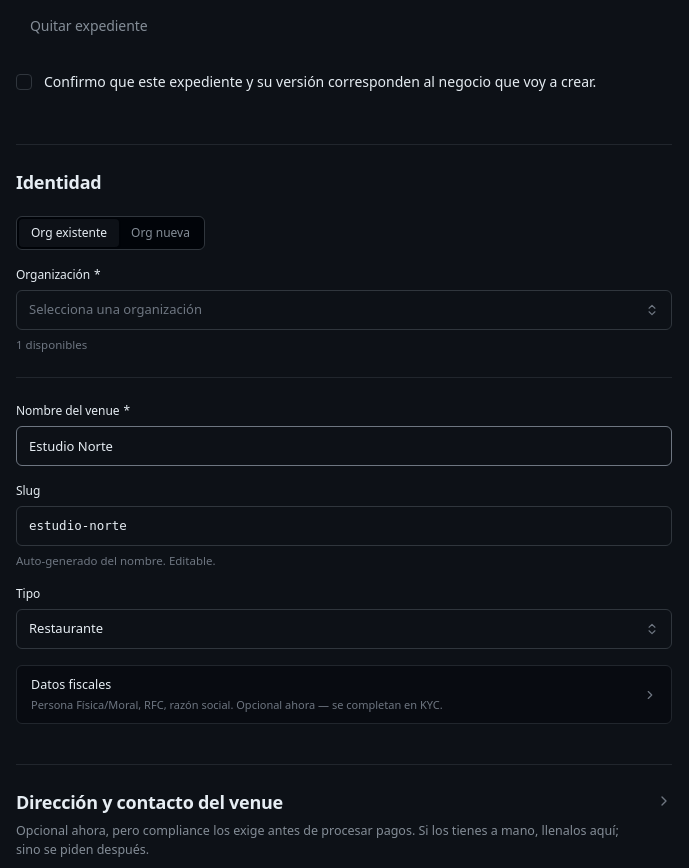
Scenario: NewVenuePage con expediente › quitar selección conserva cambios escritos a mano
(page scrolled)
Step 1. Replace the text in the field labelled "Nombre del venue*" with "Nombre manual" → [344, 446], box [16, 426, 672, 466]
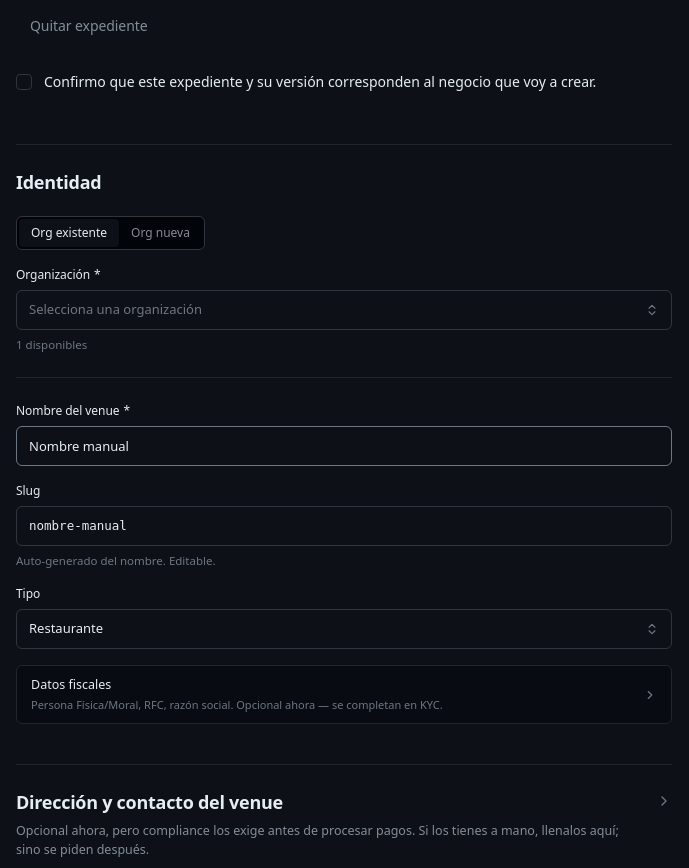
Step 2. Click the button "Quitar expediente" → [89, 26], box [16, 8, 162, 44]
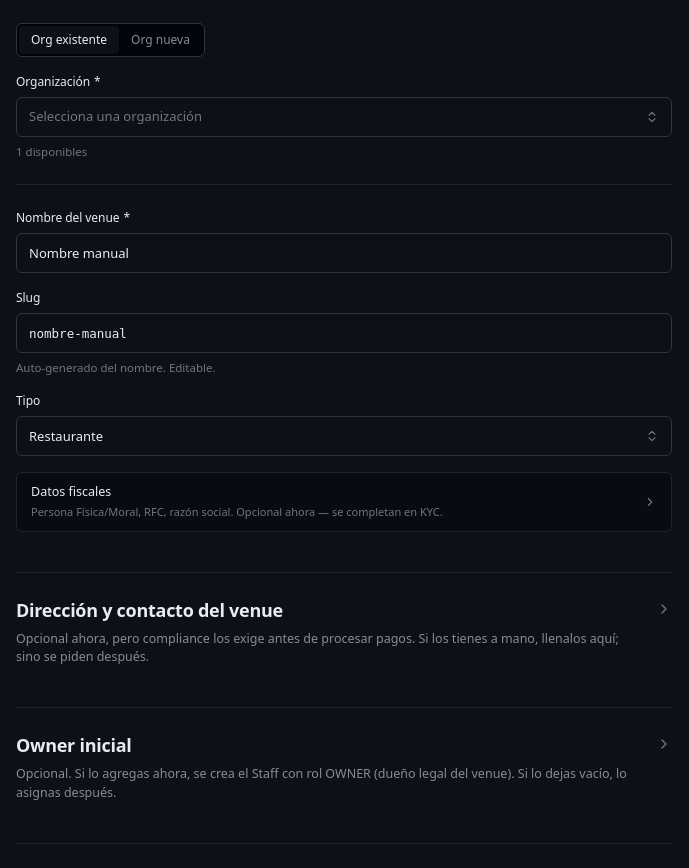
Now the label "Confirmo que este expediente" is gone
